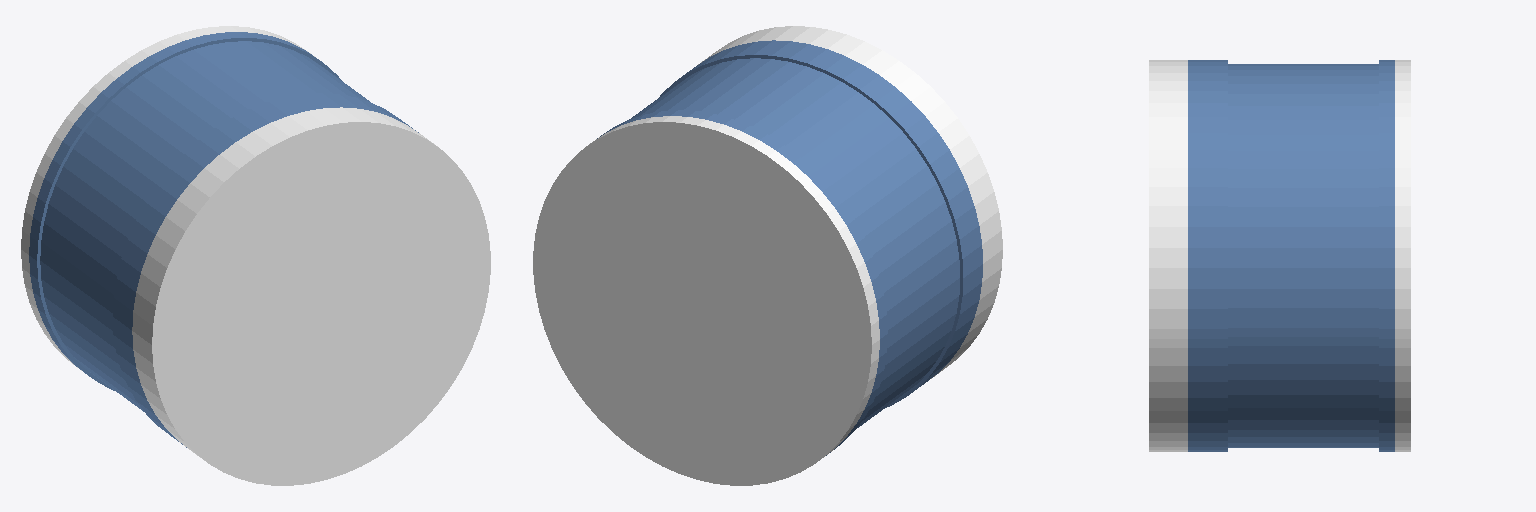
The picture shows the model from 3 angles: view 1: azimuth 30°, elevation 25°; view 2: azimuth 150°, elevation 25°; view 3: azimuth 270°, elevation 25°; orthographic projection.
Size of the model in its own units: 0.109 by 0.109 by 0.073.
1 materials, 1 textured.